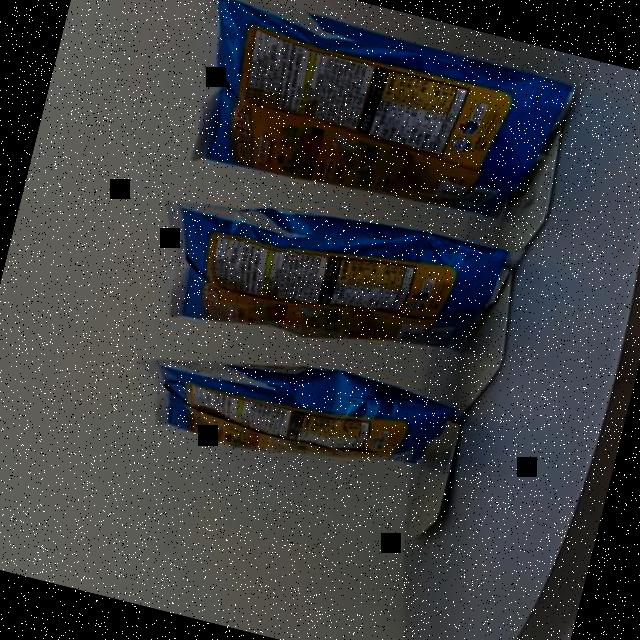snack_bag: (97, 0, 593, 528)
